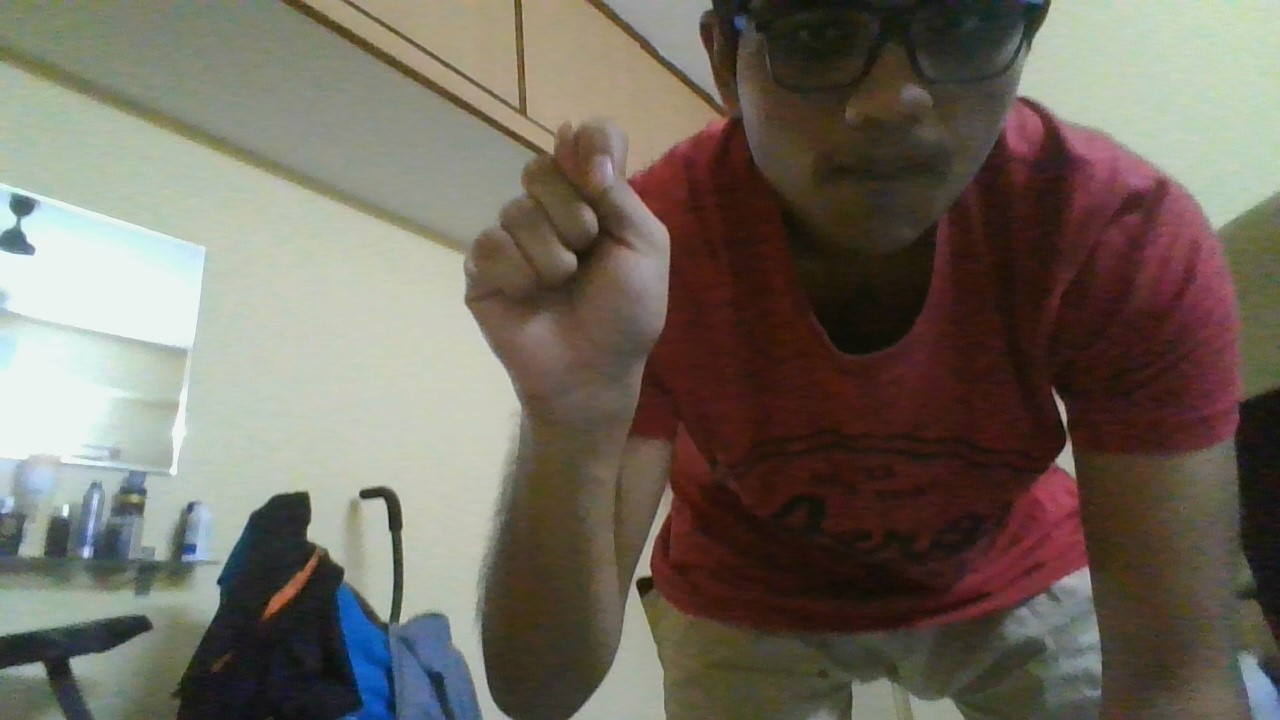t: (457, 111, 678, 415)
